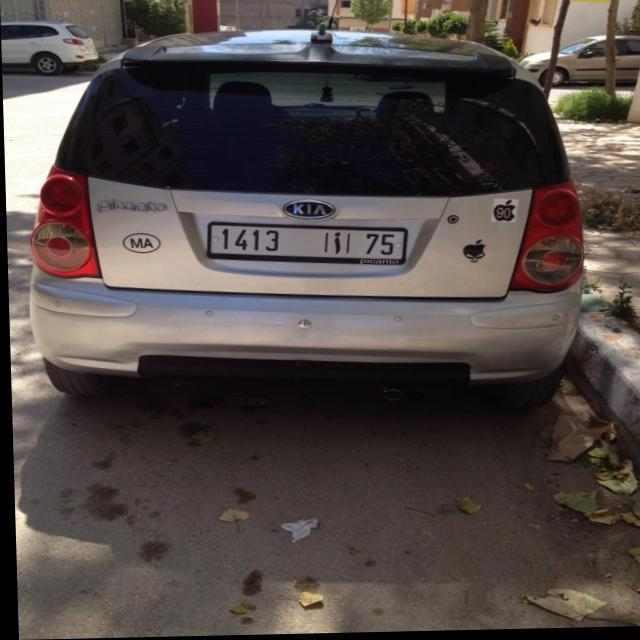License-Plate: (206, 224, 406, 267)
